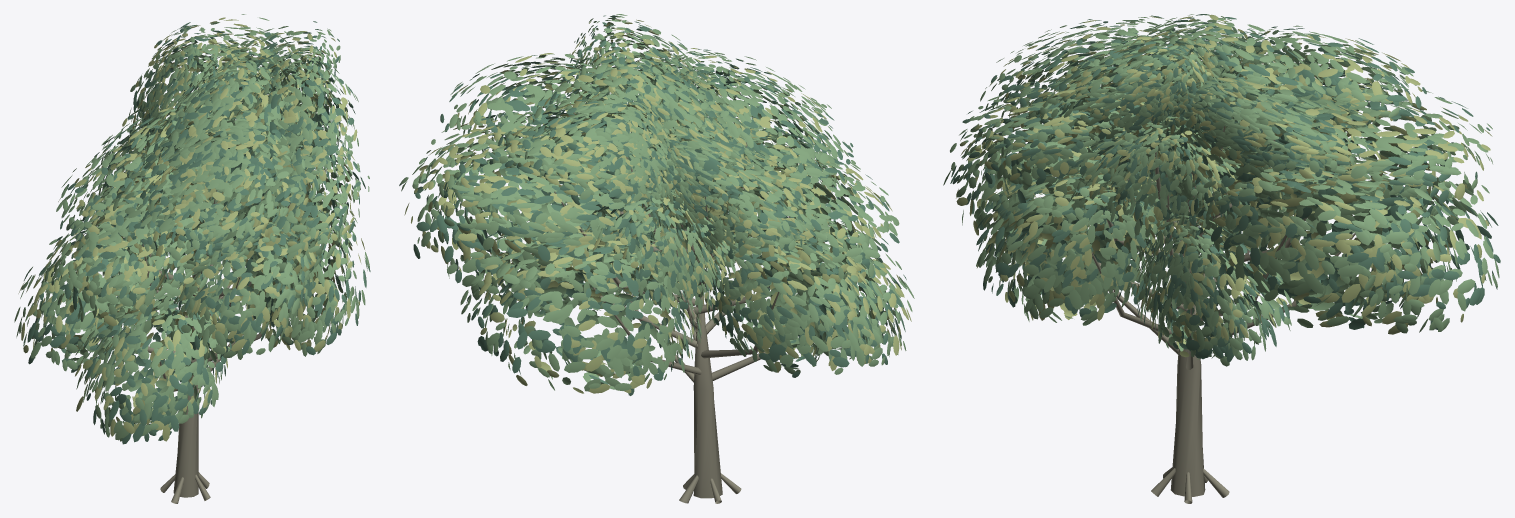
File: grove_6.glb
3 renders of one model, left to right at view 1: azimuth 30°, elevation 25°; view 2: azimuth 150°, elevation 25°; view 3: azimuth 270°, elevation 25°, orthographic. The views are drawn at different scales.
Visible parts, largest first — view 1: study_canopy_0_StudyLeafJade, study_canopy_0_StudyLeafDeep, study_canopy_0_StudyLeafGold, study_canopy_0_StudyBark; view 2: study_canopy_0_StudyLeafJade, study_canopy_0_StudyLeafDeep, study_canopy_0_StudyLeafGold, study_canopy_0_StudyBark; view 3: study_canopy_0_StudyLeafJade, study_canopy_0_StudyLeafDeep, study_canopy_0_StudyLeafGold, study_canopy_0_StudyBark.
Boxes of the visible parts, left/top/right/bottom form: study_canopy_0_StudyLeafJade: left=14, top=14, right=369, bottom=441; study_canopy_0_StudyLeafDeep: left=23, top=21, right=370, bottom=444; study_canopy_0_StudyLeafGold: left=18, top=17, right=364, bottom=441; study_canopy_0_StudyBark: left=108, top=108, right=293, bottom=503; study_canopy_0_StudyLeafJade: left=401, top=14, right=914, bottom=391; study_canopy_0_StudyLeafDeep: left=399, top=15, right=906, bottom=395; study_canopy_0_StudyLeafGold: left=404, top=19, right=911, bottom=393; study_canopy_0_StudyBark: left=551, top=86, right=815, bottom=503; study_canopy_0_StudyLeafJade: left=943, top=14, right=1499, bottom=366; study_canopy_0_StudyLeafDeep: left=950, top=14, right=1500, bottom=362; study_canopy_0_StudyLeafGold: left=956, top=14, right=1492, bottom=357; study_canopy_0_StudyBark: left=1052, top=117, right=1360, bottom=503.
Bounding box in the file's own units: 10.19 × 10.95 × 10.55.
